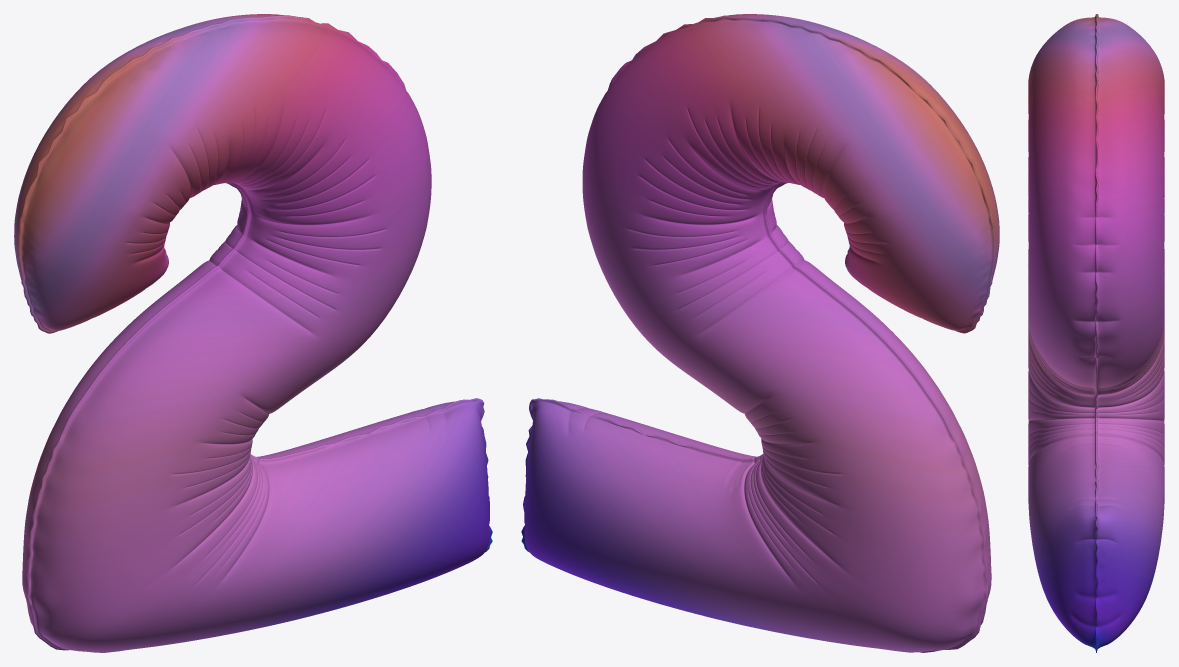
The model's file is FoilBalloonTwo.gltf.
3 renders of one model, left to right at view 1: azimuth 30°, elevation 25°; view 2: azimuth 150°, elevation 25°; view 3: azimuth 270°, elevation 25°, orthographic. The views are drawn at different scales.
Visible parts, largest first — view 1: foil_balloon_two; view 2: foil_balloon_two; view 3: foil_balloon_two.
Part boxes in pixels (<box>): foil_balloon_two: <box>14,14,492,652</box>; foil_balloon_two: <box>521,14,999,652</box>; foil_balloon_two: <box>1028,14,1164,652</box>.
Bounding box in the file's own units: 14.19 × 17.47 × 4.15.
1 material, 1 textured.
